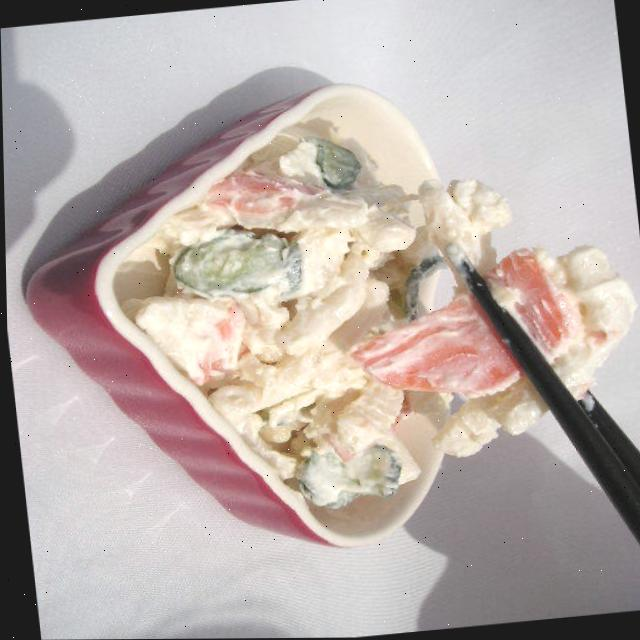蔬菜料理: (4, 53, 640, 575)
